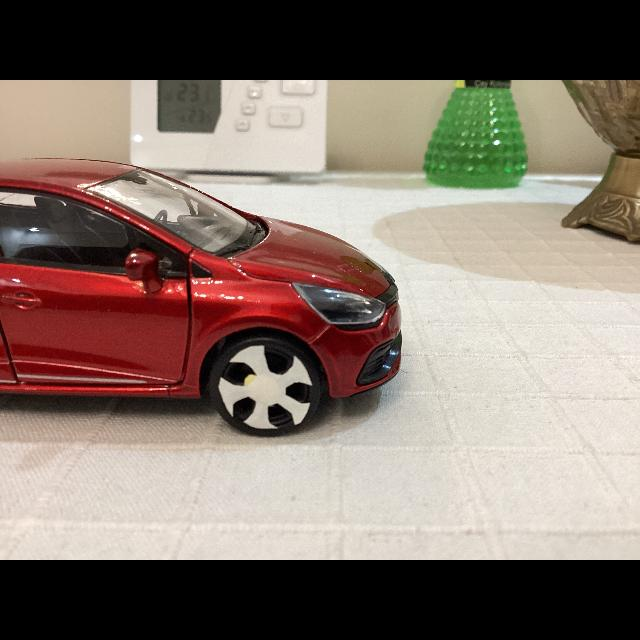Yanlis_Jant: (218, 344, 316, 431)
